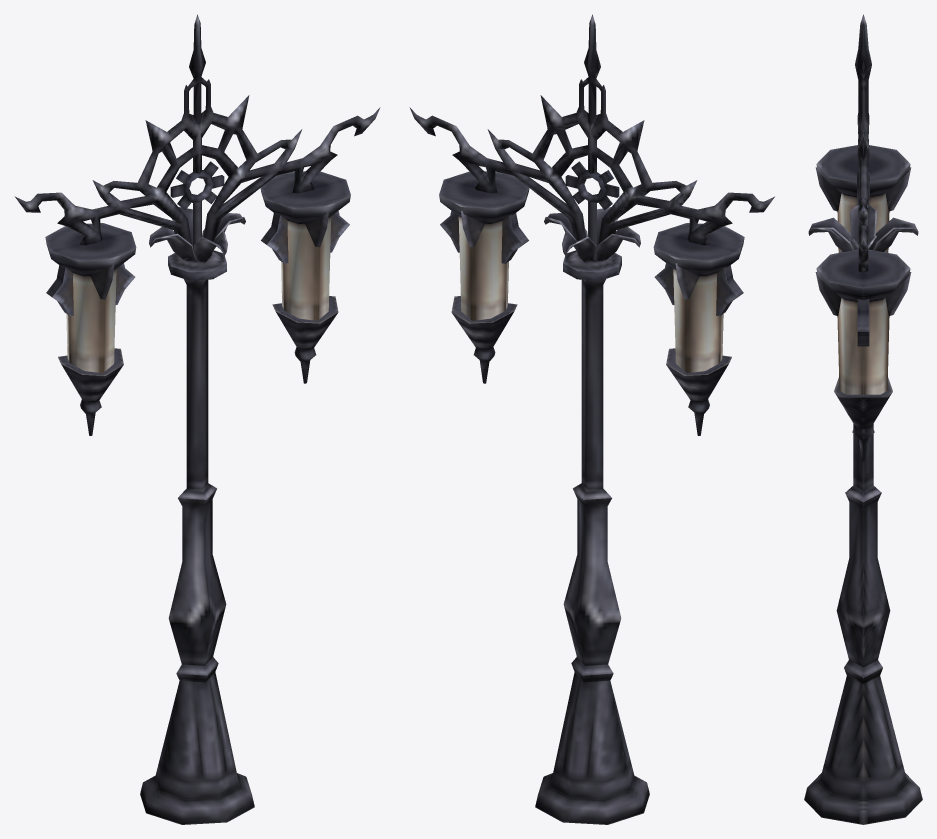
The model's file is SM_zhucheng_ludeng01a.FBX.
3 views of the same model, side by side, from view 1: azimuth 30°, elevation 25°; view 2: azimuth 150°, elevation 25°; view 3: azimuth 270°, elevation 25° (orthographic).
Visible parts, largest first — view 1: SM_zhucheng_ludeng01a; view 2: SM_zhucheng_ludeng01a; view 3: SM_zhucheng_ludeng01a.
Part boxes in pixels (x1,y1,x2,y2): SM_zhucheng_ludeng01a: (15,14,380,824); SM_zhucheng_ludeng01a: (409,14,774,824); SM_zhucheng_ludeng01a: (804,14,922,824).
Size of the model in its own units: 111 by 228 by 31.25.
